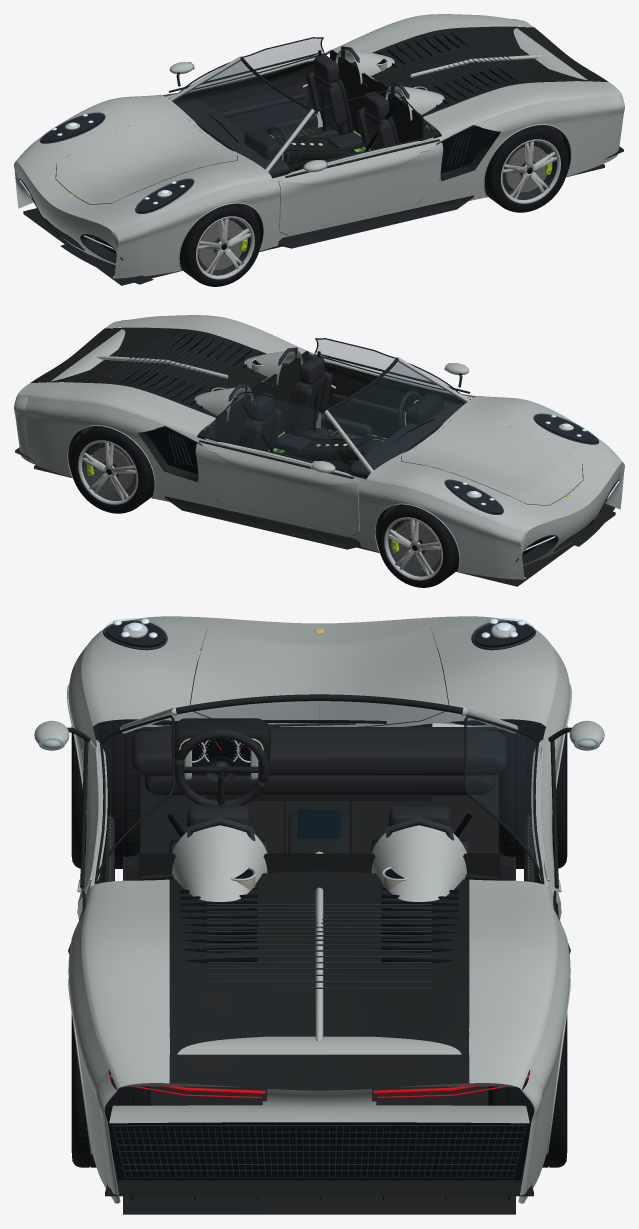
3 views of the same model, one above another, from view 1: azimuth 30°, elevation 25°; view 2: azimuth 150°, elevation 25°; view 3: azimuth 270°, elevation 25° (orthographic). The views are drawn at different scales.
Visible parts, largest first — view 1: porsche918_side_sculpted_skin_-1, porsche918_front_quarter_skin, porsche918_door_outer_skin_-1, porsche918_rear_centre_deck_skin, porsche918_front_luggage_lid, porsche918_front_windshield, porsche918_rear_haunch_skin_-1, porsche918_rear_haunch_skin_1, porsche918_rear_right_tire, porsche918_rear_firewall, porsche918_door_inner_carbon_shell_1, porsche918_front_right_tire (+38 smaller); view 2: porsche918_side_sculpted_skin_1, porsche918_front_quarter_skin, porsche918_door_outer_skin_1, porsche918_rear_centre_deck_skin, porsche918_front_luggage_lid, porsche918_front_windshield, porsche918_door_side_glass_1, porsche918_rear_haunch_skin_1, porsche918_door_inner_carbon_shell_-1, porsche918_rear_haunch_skin_-1, porsche918_rear_left_tire, porsche918_rear_firewall (+38 smaller); view 3: porsche918_rear_centre_deck_skin, porsche918_rear_grille_shadow, porsche918_front_quarter_skin, porsche918_front_luggage_lid, porsche918_underfloor_carbon_pan, porsche918_rear_haunch_skin_-1, porsche918_rear_haunch_skin_1, porsche918_dashboard_upper, porsche918_rear_bumper_skin, porsche918_rear_engine_vent_mesh, porsche918_rear_diffuser_ramp, porsche918_door_side_glass_1 (+33 smaller).
Part boxes in pixels (x1,y1,x2,y2): porsche918_side_sculpted_skin_-1: (114, 96, 613, 278); porsche918_front_quarter_skin: (16, 94, 272, 232); porsche918_door_outer_skin_-1: (279, 141, 443, 235); porsche918_rear_centre_deck_skin: (351, 26, 608, 116); porsche918_front_luggage_lid: (56, 113, 237, 204); porsche918_front_windshield: (172, 60, 309, 168); porsche918_rear_haunch_skin_-1: (423, 81, 621, 135); porsche918_rear_haunch_skin_1: (327, 14, 533, 53); porsche918_rear_right_tire: (484, 125, 568, 212); porsche918_rear_firewall: (330, 50, 423, 144); porsche918_door_inner_carbon_shell_1: (173, 61, 313, 132); porsche918_front_right_tire: (179, 203, 261, 286); porsche918_side_sculpted_skin_1: (25, 397, 524, 579); porsche918_front_quarter_skin: (366, 395, 622, 533); porsche918_door_outer_skin_1: (195, 442, 359, 536); porsche918_rear_centre_deck_skin: (30, 327, 287, 417); porsche918_front_luggage_lid: (401, 414, 582, 505); porsche918_front_windshield: (329, 361, 466, 469); porsche918_door_side_glass_1: (203, 393, 347, 471); porsche918_rear_haunch_skin_1: (17, 382, 215, 436); porsche918_door_inner_carbon_shell_-1: (325, 362, 465, 438); porsche918_rear_haunch_skin_-1: (105, 315, 311, 354); porsche918_rear_left_tire: (70, 426, 154, 513); porsche918_rear_firewall: (215, 351, 308, 445); porsche918_rear_centre_deck_skin: (170, 871, 468, 1090); porsche918_rear_grille_shadow: (107, 1122, 531, 1180); porsche918_front_quarter_skin: (81, 616, 557, 726); porsche918_front_luggage_lid: (190, 626, 448, 726); porsche918_underfloor_carbon_pan: (123, 774, 515, 1214); porsche918_rear_haunch_skin_-1: (81, 879, 169, 1090); porsche918_rear_haunch_skin_1: (469, 879, 557, 1090); porsche918_dashboard_upper: (132, 729, 506, 775); porsche918_rear_bumper_skin: (109, 1083, 529, 1123); porsche918_rear_engine_vent_mesh: (112, 1125, 526, 1177); porsche918_rear_diffuser_ramp: (105, 1163, 533, 1196); porsche918_door_side_glass_1: (467, 717, 540, 870).
Size of the model in its own units: 4.64 by 1.15 by 2.21.
